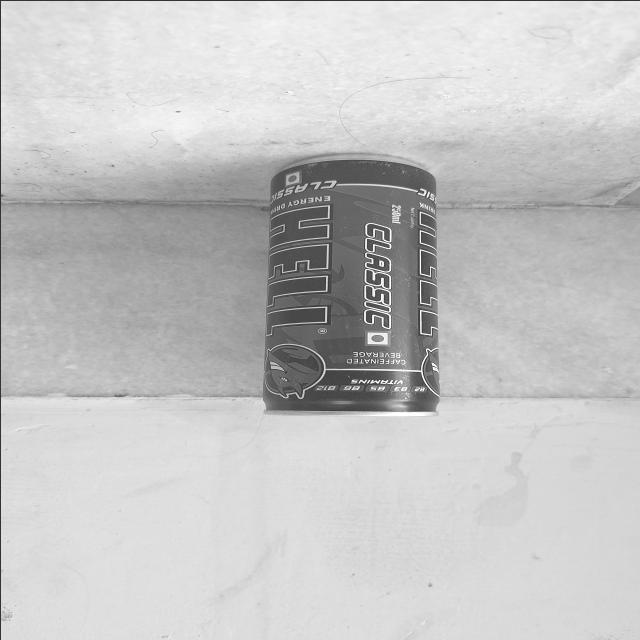Hell Classic: (225, 151, 456, 425)
